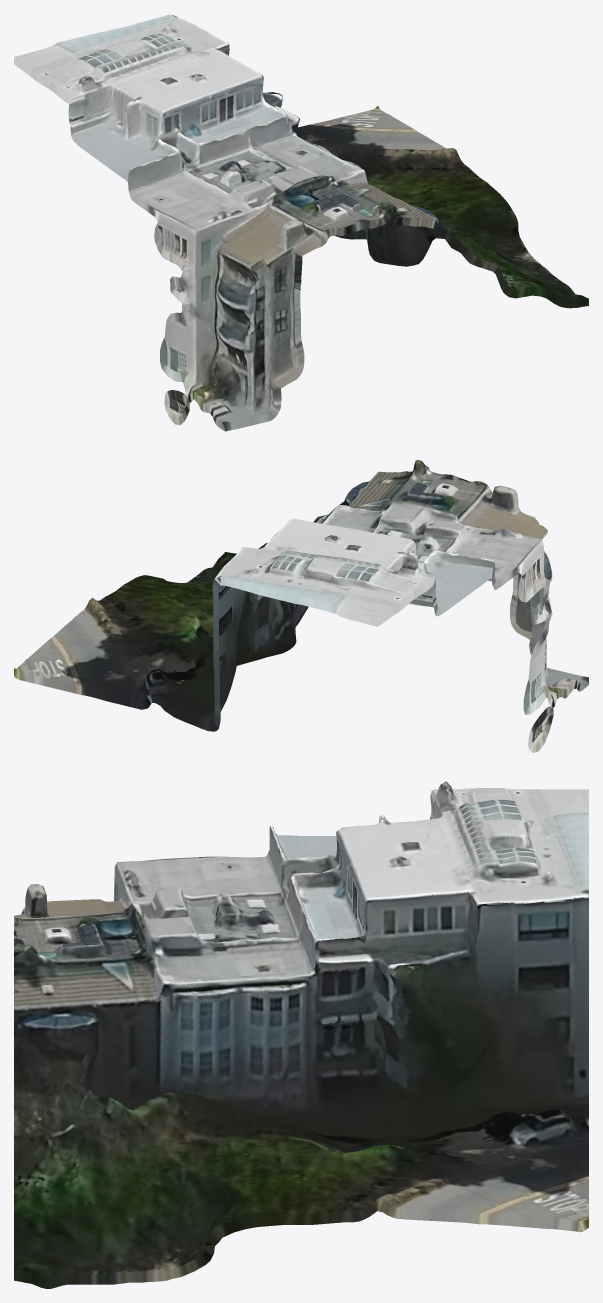
Rendered from z20-167756-405197-h0-yup-uvflip-v3-world.glb.
3 views of the same model, one above another, from view 1: azimuth 30°, elevation 25°; view 2: azimuth 150°, elevation 25°; view 3: azimuth 270°, elevation 25° (orthographic). The views are drawn at different scales.
Size of the model in its own units: 30.16 by 20.88 by 30.32.
Materials: 1 (1 with a texture image).
